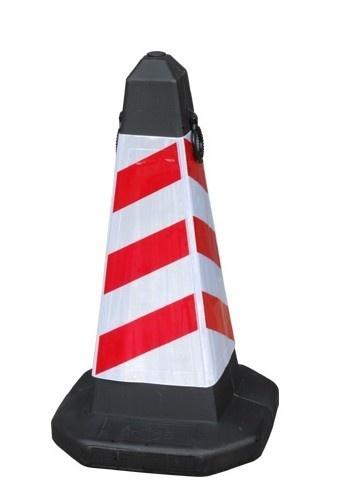cone_barrel: (60, 39, 273, 482)
